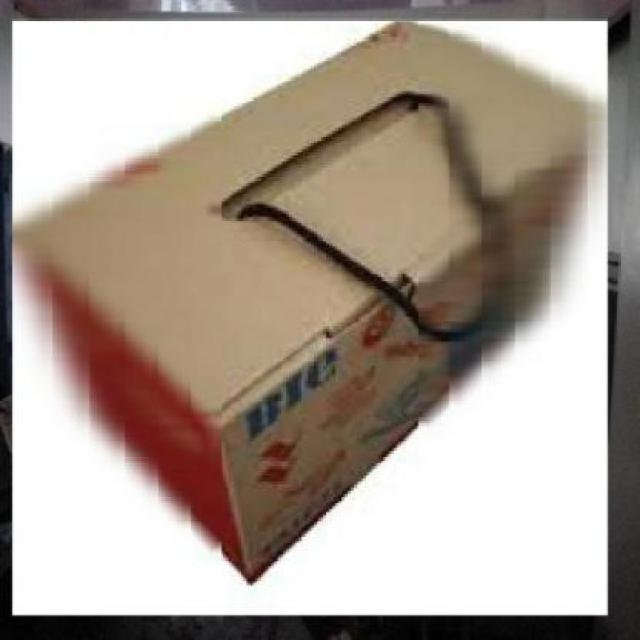box: (3, 12, 615, 625)
